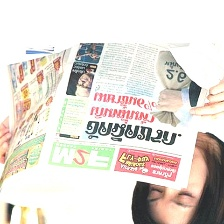news_paper: (0, 42, 208, 196)
